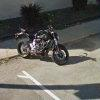Motorcycle: (13, 20, 88, 77)
